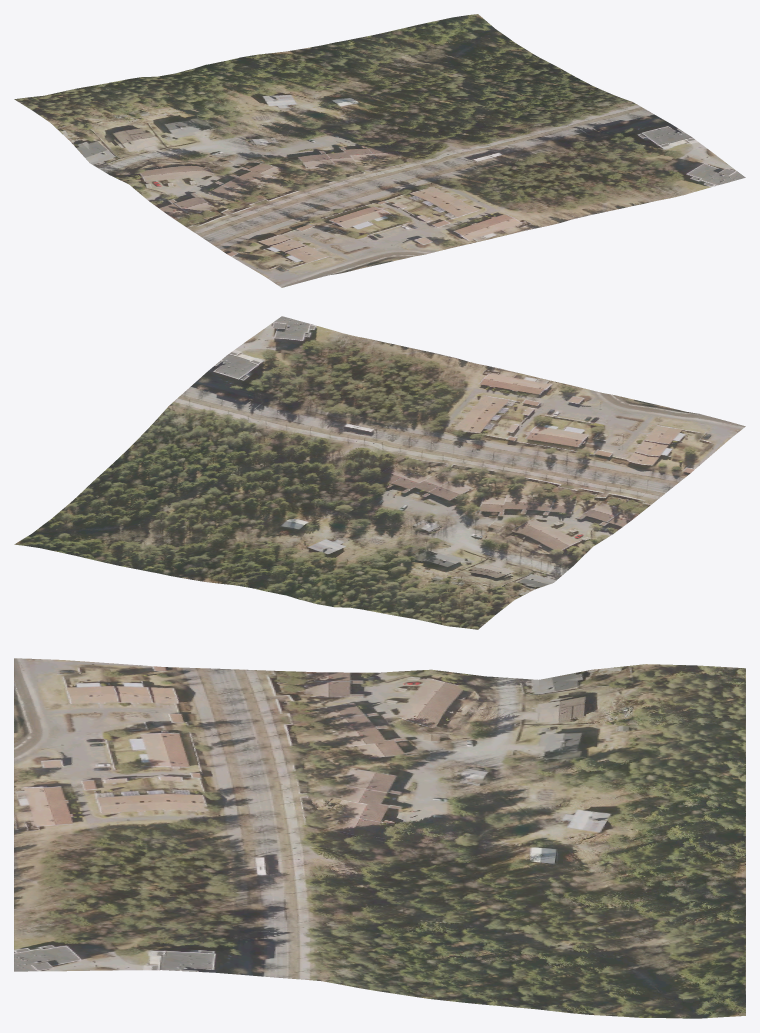
File: CM_Terrain_24490868_6817541.fbx
3 renders of one model, top to bottom at view 1: azimuth 30°, elevation 25°; view 2: azimuth 150°, elevation 25°; view 3: azimuth 270°, elevation 25°, orthographic. The views are drawn at different scales.
Visible parts, largest first — view 1: CM_Terrain_24490868_6817541_LOD0; view 2: CM_Terrain_24490868_6817541_LOD0; view 3: CM_Terrain_24490868_6817541_LOD0.
Boxes of the visible parts, left/top/right/bottom form: CM_Terrain_24490868_6817541_LOD0: left=14, top=14, right=745, bottom=287; CM_Terrain_24490868_6817541_LOD0: left=14, top=316, right=745, bottom=629; CM_Terrain_24490868_6817541_LOD0: left=14, top=658, right=745, bottom=1018.
Size of what is drawn, in the model's own units: 205 by 16.33 by 205.
